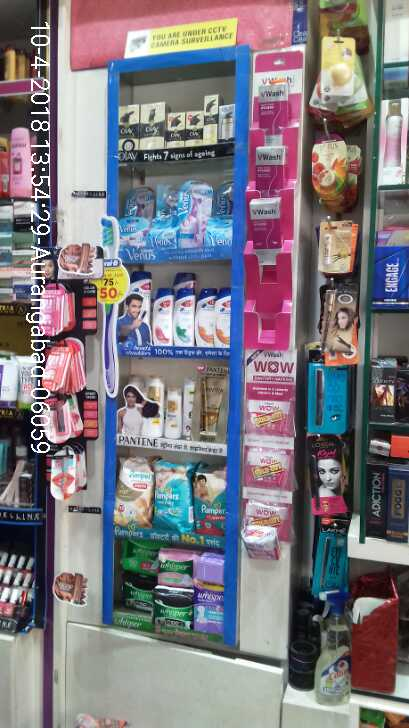venus: (150, 216, 193, 247), (204, 218, 233, 249), (181, 182, 209, 213), (121, 216, 149, 246), (127, 187, 153, 215), (158, 183, 175, 214), (218, 184, 233, 215)
